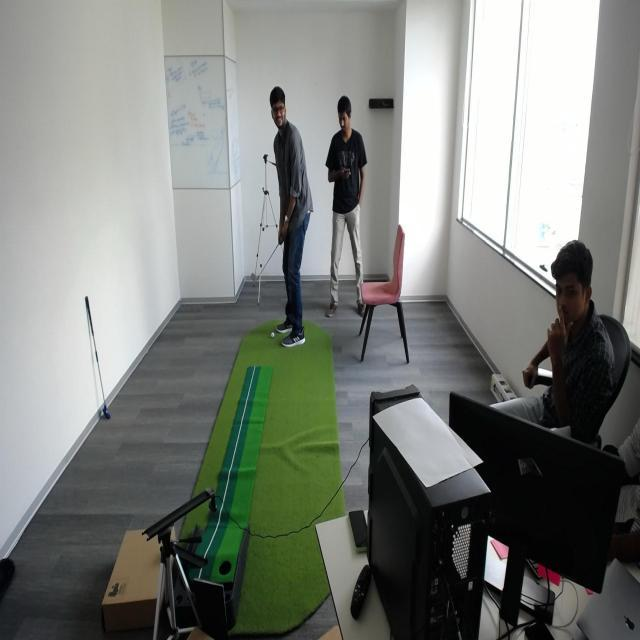ClubHead: (99, 402, 115, 426), (250, 268, 262, 287)
GolfBall: (270, 332, 276, 339)
